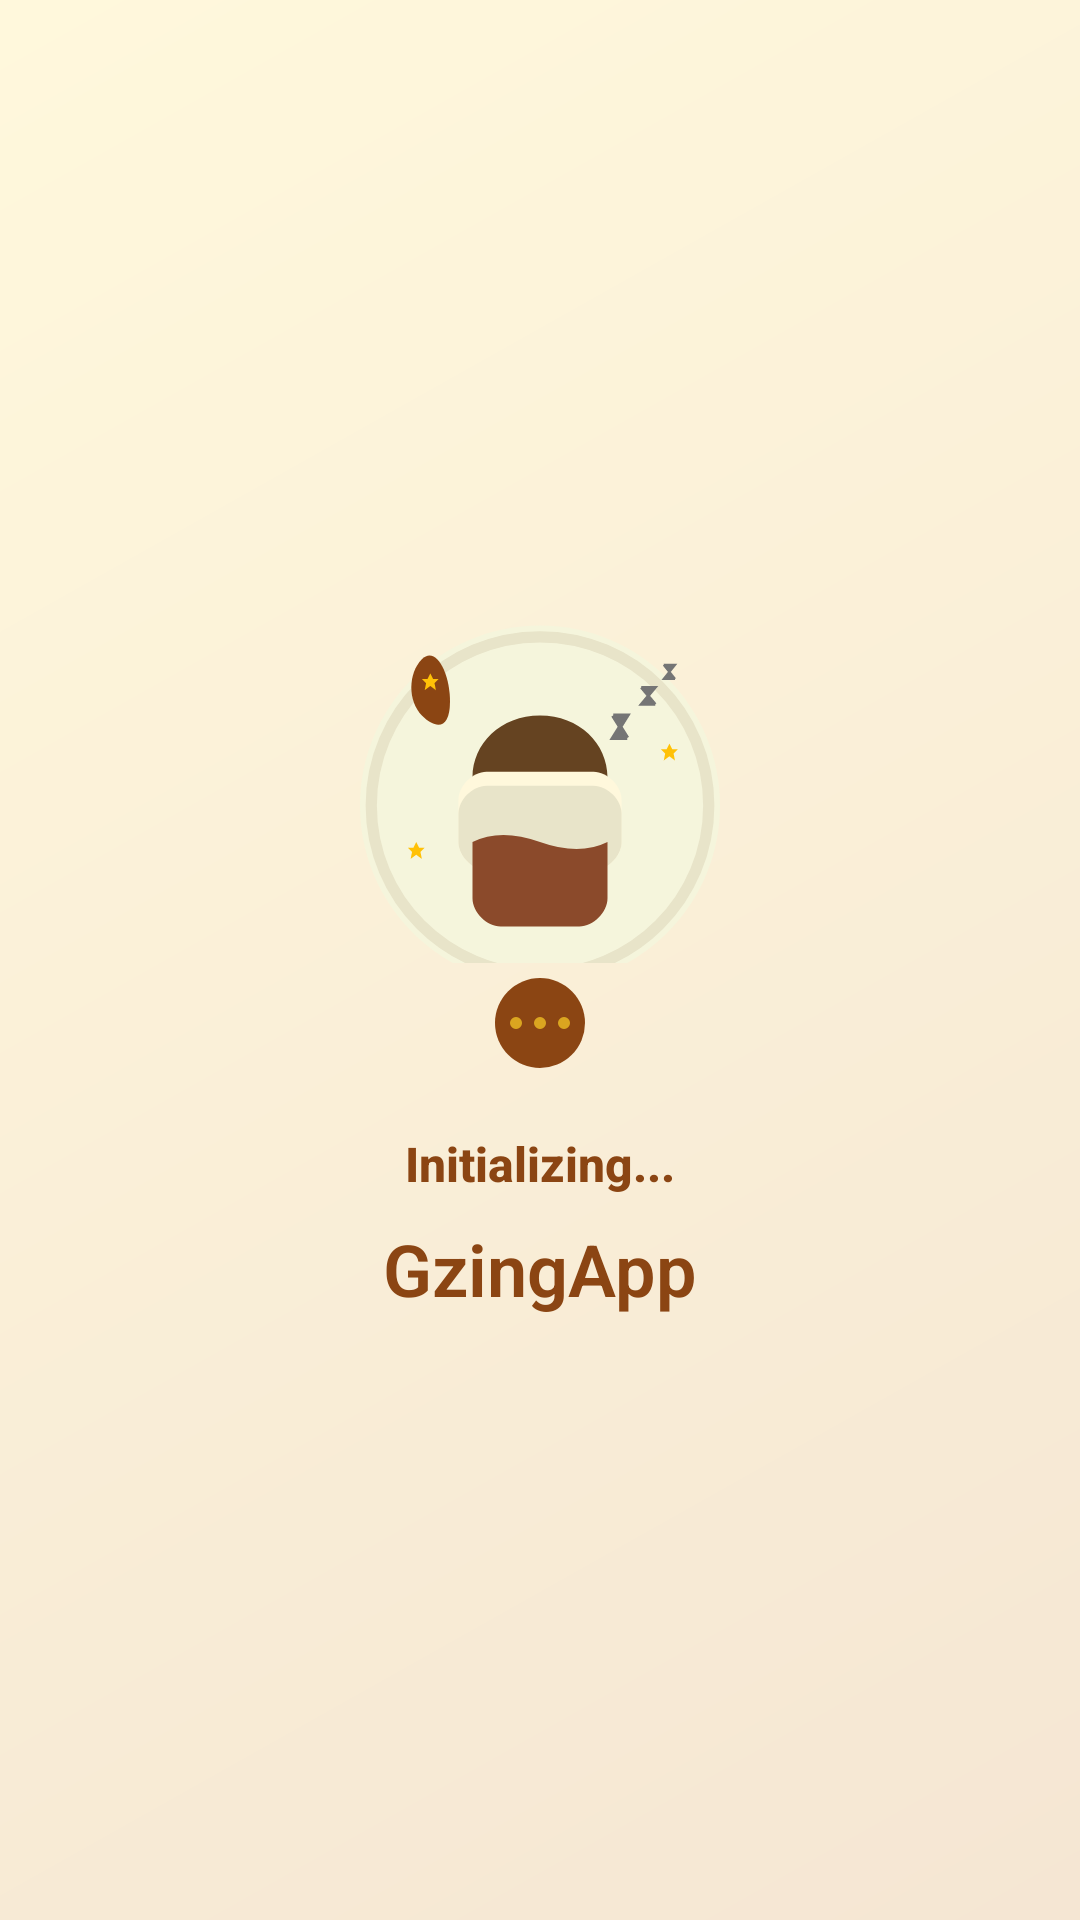

Screen size 1080*1920. Icon name, then its box in pixels as [x1, y1, x2, y2]:
Loading animation: [495, 978, 585, 1068]
